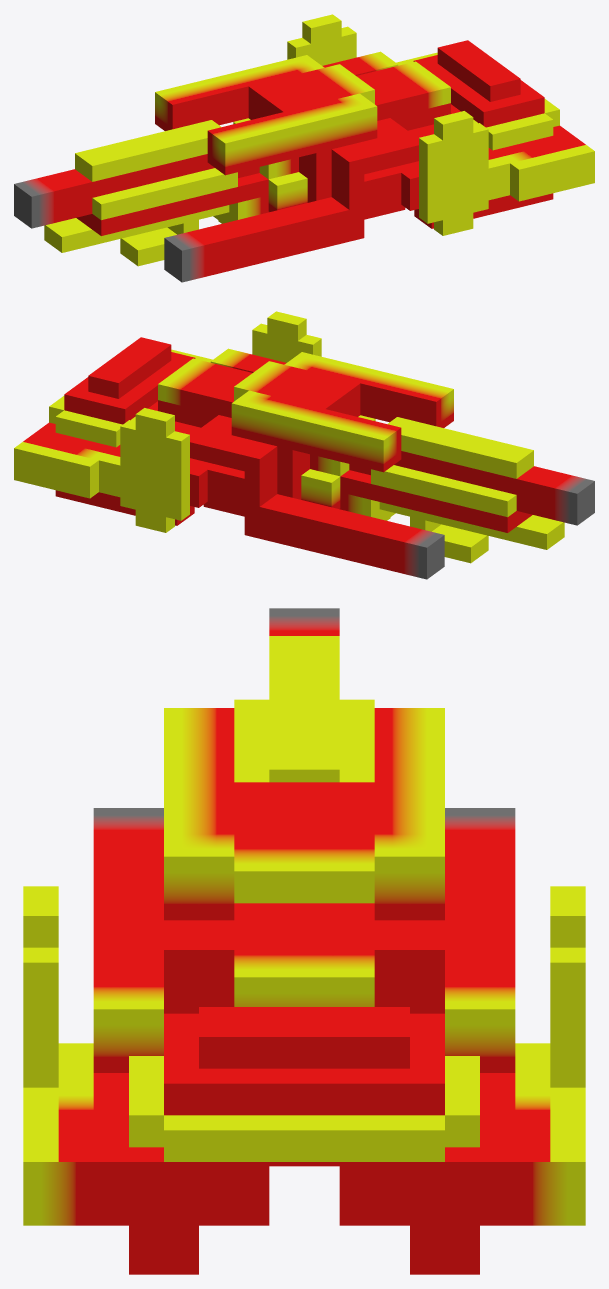
The model's file is Player_20.fbx.
The picture shows the model from 3 angles, top to bottom: view 1: azimuth 30°, elevation 25°; view 2: azimuth 150°, elevation 25°; view 3: azimuth 270°, elevation 25°; orthographic projection. The views are drawn at different scales.
Parts seen in each view (by area): view 1: Player_20; view 2: Player_20; view 3: Player_20.
Boxes of the visible parts, x1,y1,x2,y2 form: Player_20: (14, 14, 594, 282); Player_20: (14, 311, 594, 579); Player_20: (23, 608, 585, 1274).
Bounding box in the file's own units: 33 × 8 × 16.
Materials: 1 (1 with a texture image).
